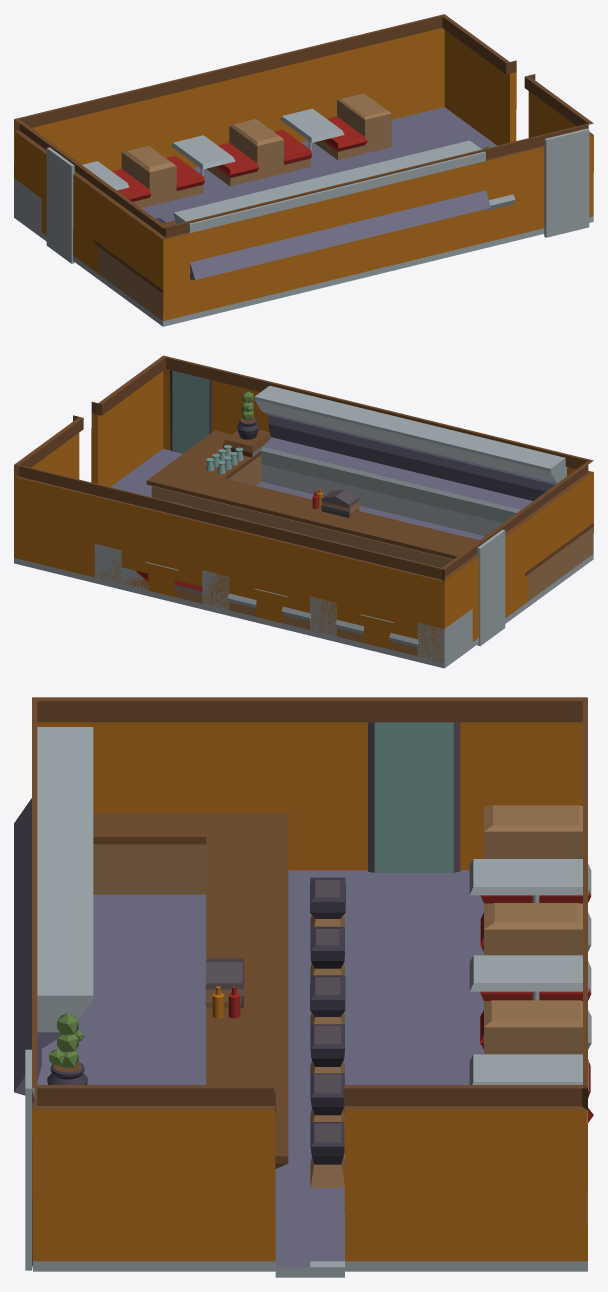
Rendered from foodFloor.fbx.
The picture shows the model from 3 angles, top to bottom: view 1: azimuth 30°, elevation 25°; view 2: azimuth 150°, elevation 25°; view 3: azimuth 270°, elevation 25°; orthographic projection. The views are drawn at different scales.
Parts seen in each view (by area): view 1: Cube; view 2: Cube; view 3: Cube.
Boxes of the visible parts, left/top/right/bottom form: Cube: left=14, top=14, right=593, bottom=326; Cube: left=14, top=355, right=593, bottom=668; Cube: left=14, top=697, right=593, bottom=1277.
Size of the model in its own units: 2038 by 449 by 1254.
